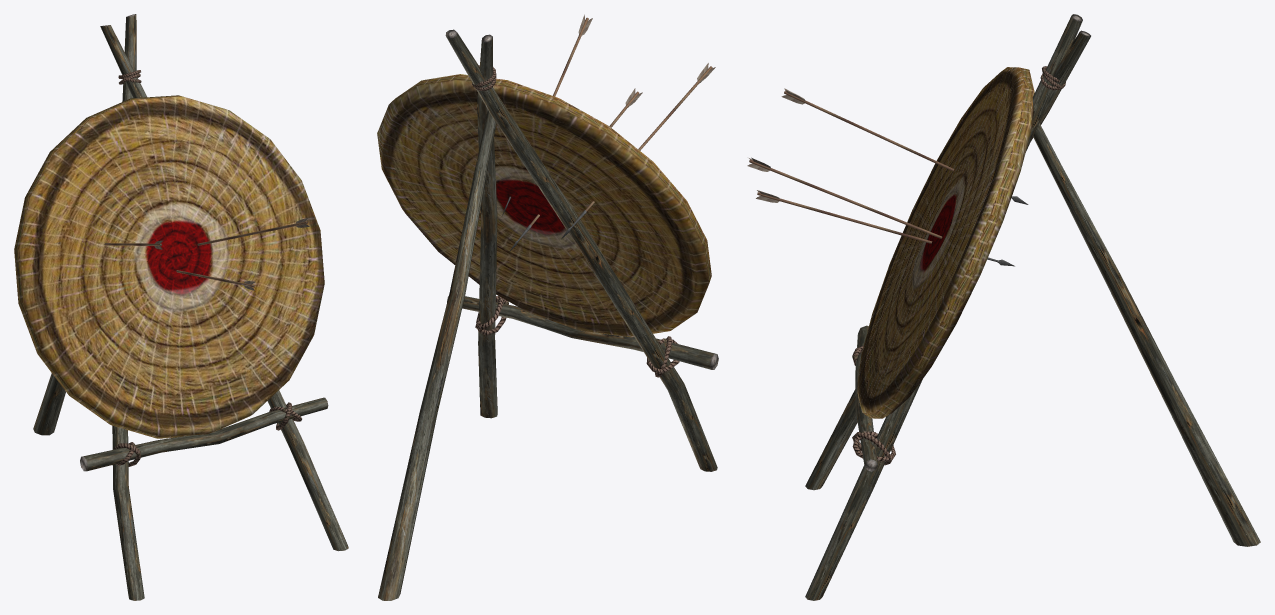
3 renders of one model, left to right at view 1: azimuth 30°, elevation 25°; view 2: azimuth 150°, elevation 25°; view 3: azimuth 270°, elevation 25°, orthographic. The views are drawn at different scales.
Parts seen in each view (by area): view 1: TargetArchery; view 2: TargetArchery; view 3: TargetArchery.
Part boxes in pixels (box(x1,y1,x2,y2)): TargetArchery: box(14, 14, 348, 600); TargetArchery: box(377, 14, 718, 600); TargetArchery: box(747, 14, 1260, 600).
Size of the model in its own units: 122 by 182 by 163.
Materials: 2 (2 with a texture image).
